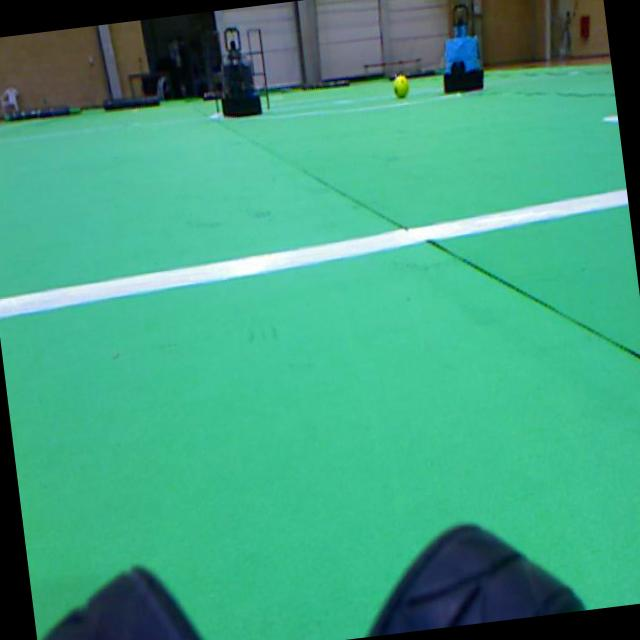ball: (393, 74, 407, 97)
robot: (221, 27, 261, 115)
